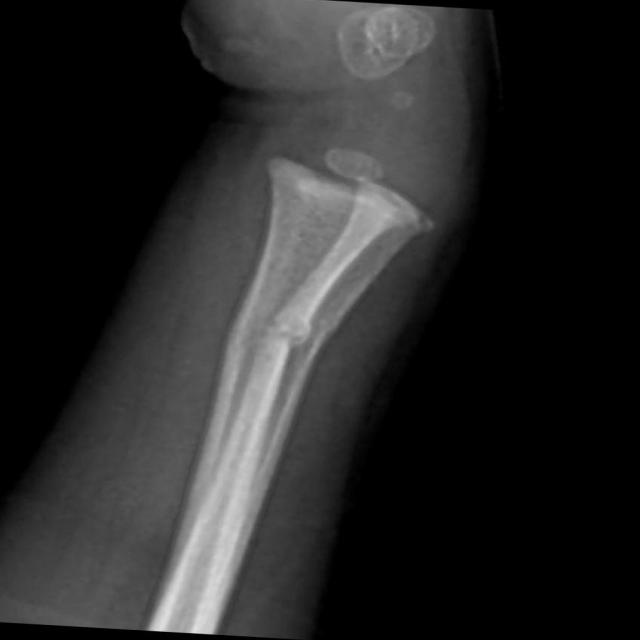Transverse Displaced: (227, 284, 345, 377)
